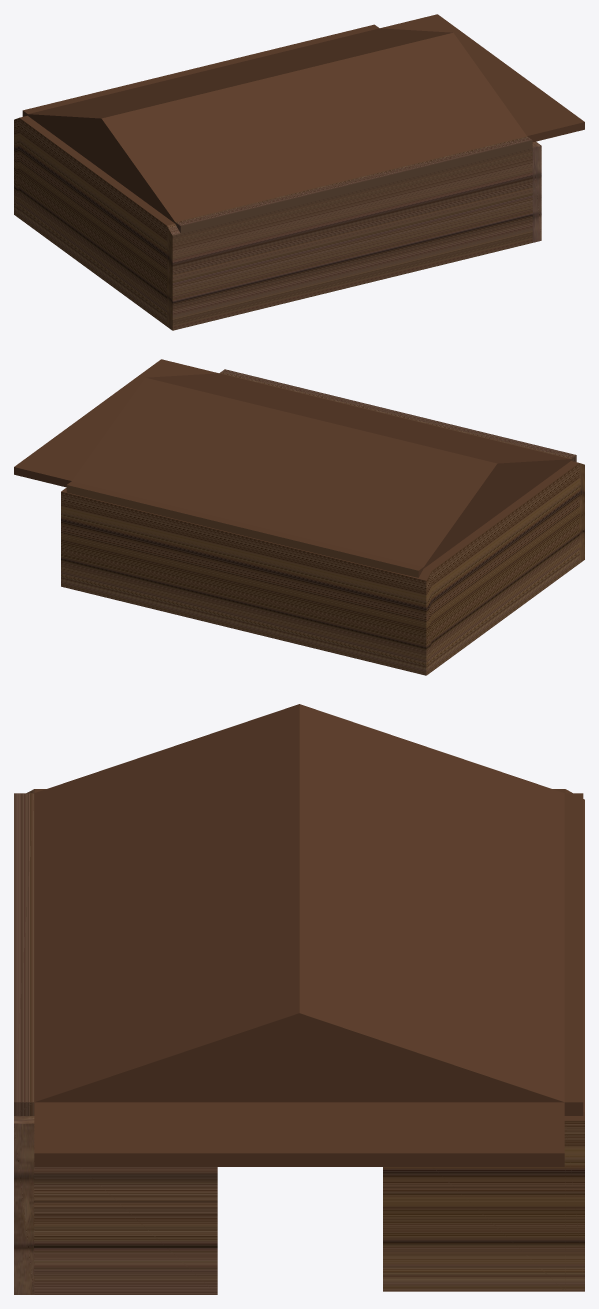
Rendered from grange.obj.
3 views of the same model, one above another, from view 1: azimuth 30°, elevation 25°; view 2: azimuth 150°, elevation 25°; view 3: azimuth 270°, elevation 25° (orthographic). The views are drawn at different scales.
Visible parts, largest first — view 1: Cube; view 2: Cube; view 3: Cube.
Boxes of the visible parts, left/top/right/bottom form: Cube: left=14, top=14, right=584, bottom=330; Cube: left=14, top=359, right=584, bottom=675; Cube: left=14, top=704, right=584, bottom=1294.
Size of the model in its own units: 43.29 by 15.27 by 28.44.
